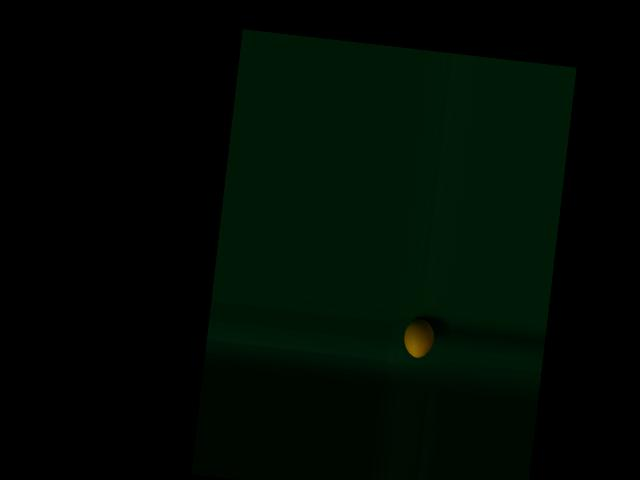egg: (401, 317, 434, 359)
